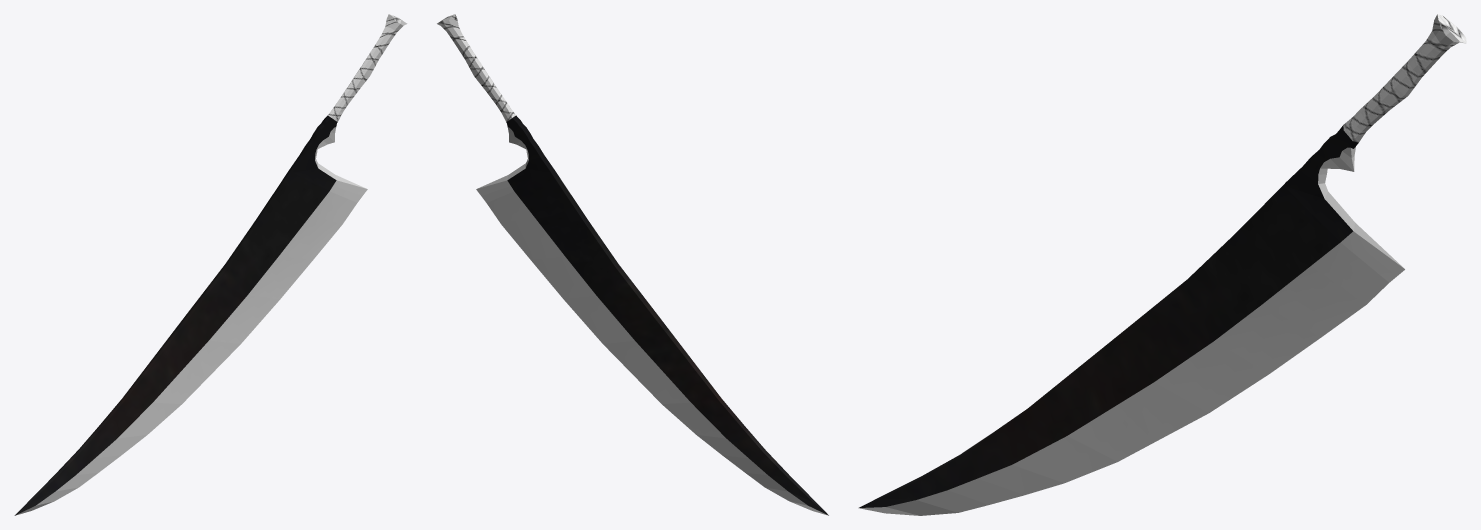
The model's file is sword.glb.
3 renders of one model, left to right at view 1: azimuth 30°, elevation 25°; view 2: azimuth 150°, elevation 25°; view 3: azimuth 330°, elevation 25°, orthographic. The views are drawn at different scales.
Parts seen in each view (by area): view 1: Plane; view 2: Plane; view 3: Plane.
Part boxes in pixels (left/top/right/bottom): Plane: left=14, top=14, right=407, bottom=515; Plane: left=437, top=14, right=828, bottom=515; Plane: left=858, top=14, right=1466, bottom=515.
Bounding box in the file's own units: 9.63 × 9.61 × 0.257.
Materials: 1 (1 with a texture image).
